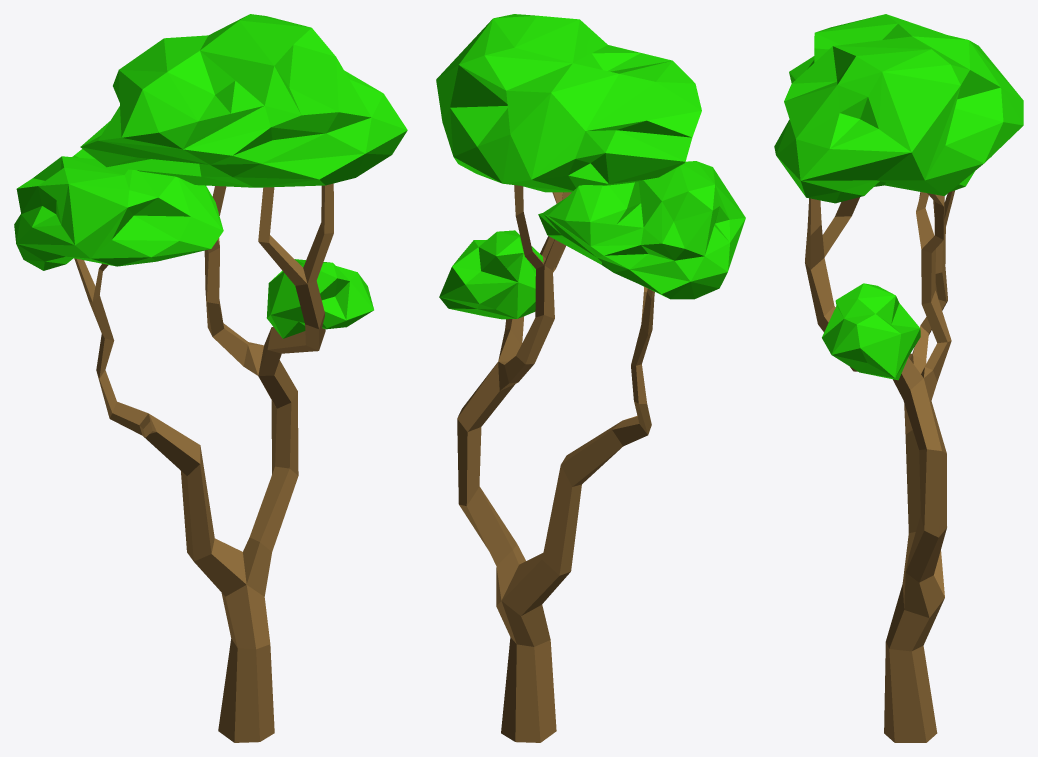
The model's file is Tree3.fbx.
3 views of the same model, side by side, from view 1: azimuth 30°, elevation 25°; view 2: azimuth 150°, elevation 25°; view 3: azimuth 270°, elevation 25° (orthographic). The views are drawn at different scales.
Parts seen in each view (by area): view 1: Tree3; view 2: Tree3; view 3: Tree3.
Boxes of the visible parts, bbox=[...] form: Tree3: bbox=[14, 14, 407, 742]; Tree3: bbox=[436, 14, 745, 742]; Tree3: bbox=[774, 14, 1023, 742].
Bounding box in the file's own units: 224 × 468 × 154.
